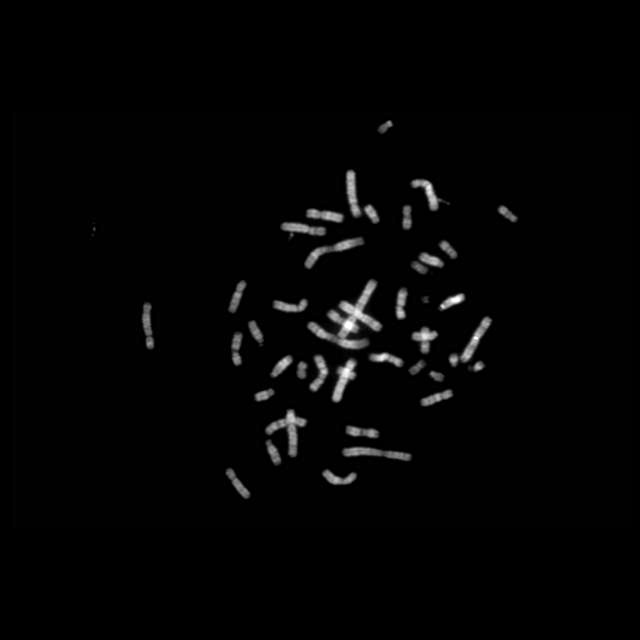chromosome: (338, 280, 378, 338), (304, 238, 364, 270), (308, 322, 368, 348), (461, 318, 492, 362), (338, 302, 382, 331), (332, 359, 356, 401), (412, 178, 438, 212), (341, 448, 412, 460), (226, 469, 250, 499), (328, 310, 360, 332), (346, 170, 360, 218), (310, 355, 328, 391), (266, 418, 306, 434), (279, 223, 325, 235), (286, 410, 298, 456), (228, 282, 246, 312), (370, 352, 402, 368), (421, 390, 453, 406), (271, 355, 293, 377), (323, 470, 357, 484), (143, 303, 153, 349), (307, 210, 343, 222), (266, 439, 282, 465), (274, 300, 308, 312), (346, 426, 378, 438), (440, 294, 464, 310), (419, 252, 443, 268), (232, 332, 243, 366), (250, 320, 264, 344), (397, 289, 408, 319), (440, 240, 458, 258), (499, 205, 517, 222), (364, 206, 380, 224), (412, 331, 438, 341), (420, 327, 430, 353), (402, 206, 412, 230), (338, 368, 357, 380), (409, 361, 425, 375), (256, 389, 274, 401), (411, 262, 427, 274), (378, 122, 392, 134), (430, 371, 444, 383), (297, 362, 307, 378), (472, 361, 484, 372), (450, 354, 458, 366)
